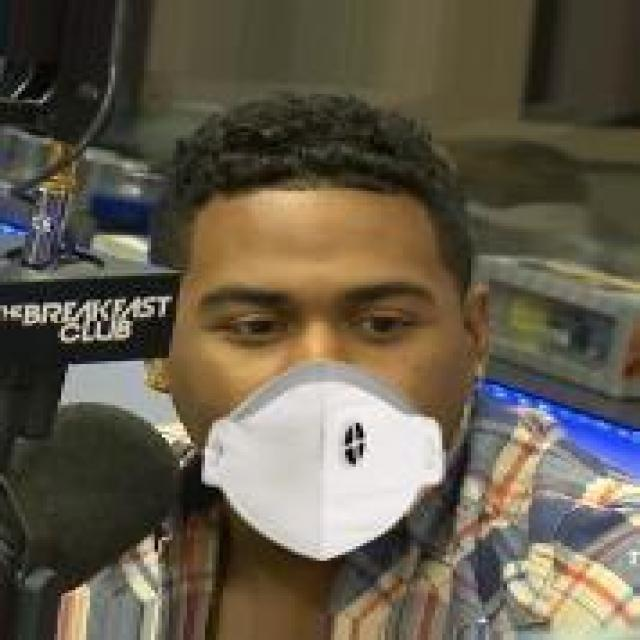mask: (97, 109, 521, 566)
